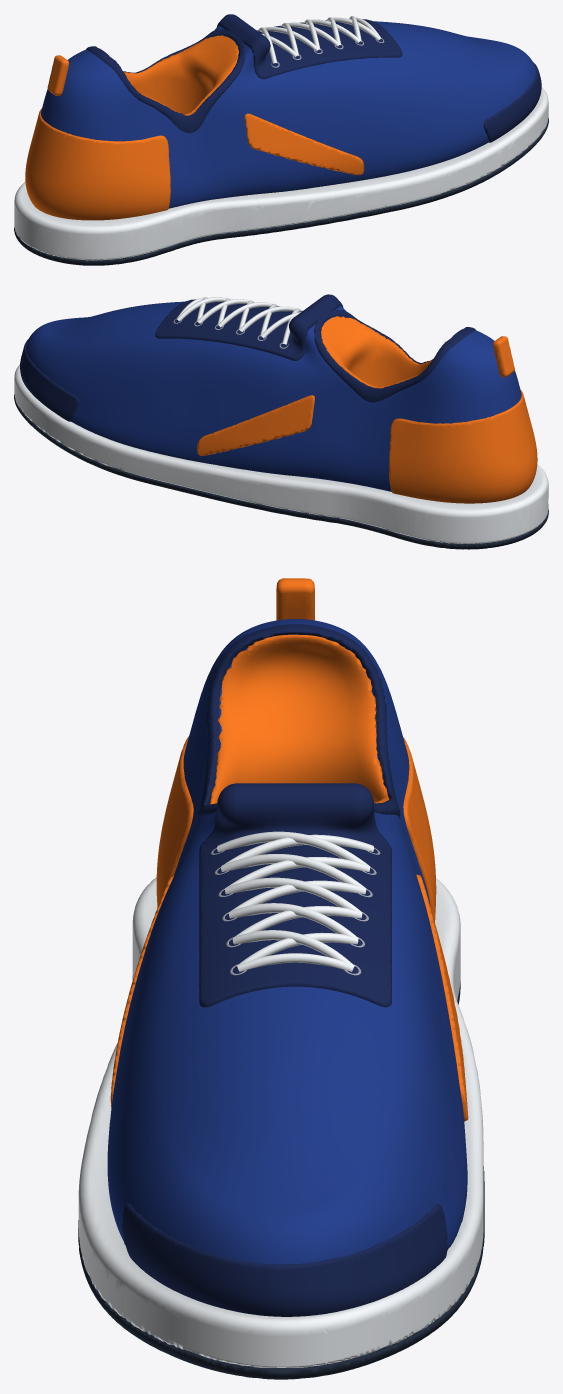
Rendered from aeroflex-sport.glb.
3 views of the same model, one above another, from view 1: azimuth 30°, elevation 25°; view 2: azimuth 150°, elevation 25°; view 3: azimuth 270°, elevation 25° (orthographic). The views are drawn at different scales.
Visible parts, largest first — view 1: upper, midsole, heel_counter, eyestay, lining, stripe, outsole, collar, laces, toe_cap, heel_tab; view 2: upper, midsole, heel_counter, eyestay, lining, outsole, stripe, collar, laces, toe_cap, heel_tab; view 3: upper, midsole, eyestay, lining, toe_cap, laces, collar, heel_counter, outsole, stripe, heel_tab.
Boxes of the visible parts, x1,y1,x2,y2 form: upper: (41, 21, 536, 208); midsole: (14, 87, 548, 260); heel_counter: (25, 108, 170, 220); eyestay: (216, 14, 402, 79); lining: (123, 35, 238, 115); stripe: (244, 113, 364, 175); outsole: (14, 118, 548, 265); collar: (86, 29, 245, 133); laces: (257, 16, 384, 67); toe_cap: (483, 62, 541, 142); heel_tab: (47, 55, 68, 95); upper: (26, 301, 521, 491); midsole: (14, 364, 548, 543); heel_counter: (389, 390, 537, 503); eyestay: (155, 294, 343, 360); lining: (321, 316, 432, 388); outsole: (14, 394, 548, 549); stripe: (197, 395, 314, 455); collar: (314, 309, 476, 402); laces: (173, 297, 302, 348); toe_cap: (20, 339, 79, 421); heel_tab: (493, 336, 514, 377); upper: (107, 619, 467, 1264); midsole: (78, 877, 483, 1367); eyestay: (199, 783, 391, 1007); lining: (209, 634, 389, 804); toe_cap: (122, 1203, 447, 1316); laces: (210, 831, 380, 975); collar: (195, 624, 400, 824); heel_counter: (156, 736, 436, 921); outsole: (78, 975, 484, 1379); stripe: (110, 874, 468, 1121); heel_tab: (276, 578, 314, 620).
Bounding box in the file's own units: 0.9828 × 0.3374 × 0.337.
